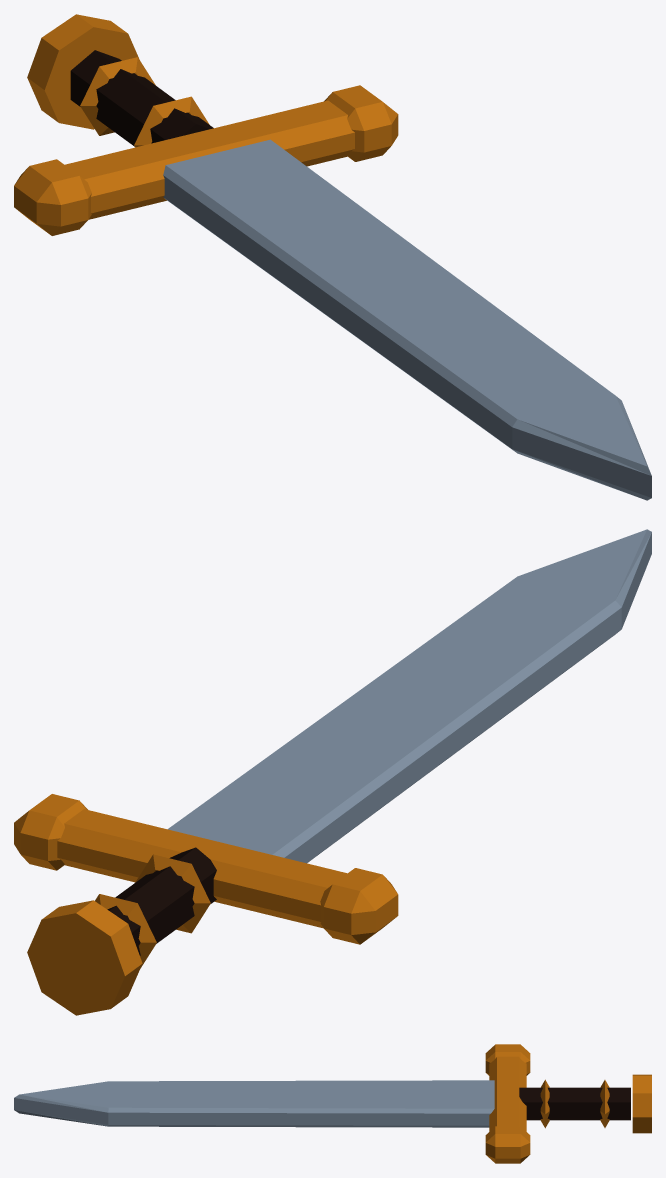
The model's file is Item_IronSword.fbx.
The picture shows the model from 3 angles, top to bottom: view 1: azimuth 30°, elevation 25°; view 2: azimuth 150°, elevation 25°; view 3: azimuth 270°, elevation 25°; orthographic projection. The views are drawn at different scales.
Parts seen in each view (by area): view 1: Item_IronSword; view 2: Item_IronSword; view 3: Item_IronSword.
Boxes of the visible parts, left/top/right/bottom form: Item_IronSword: left=14, top=14, right=651, bottom=500; Item_IronSword: left=14, top=529, right=651, bottom=1015; Item_IronSword: left=14, top=1044, right=651, bottom=1163.
Bounding box in the file's own units: 0.31 × 0.084 × 0.8551.
